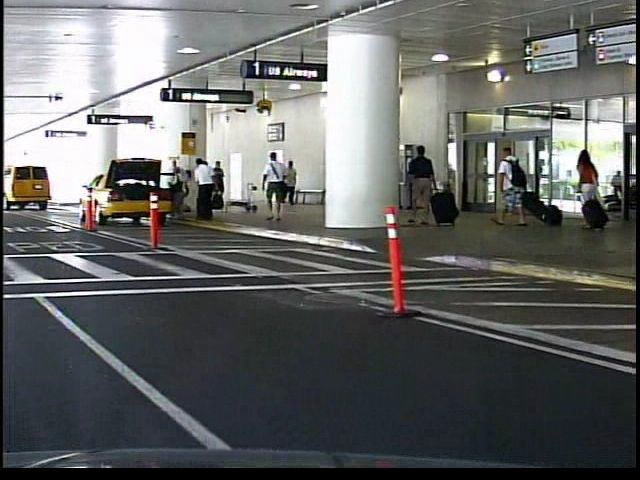person: (492, 141, 529, 226), (567, 144, 602, 230), (402, 142, 433, 228), (255, 149, 287, 223), (276, 160, 296, 208)
